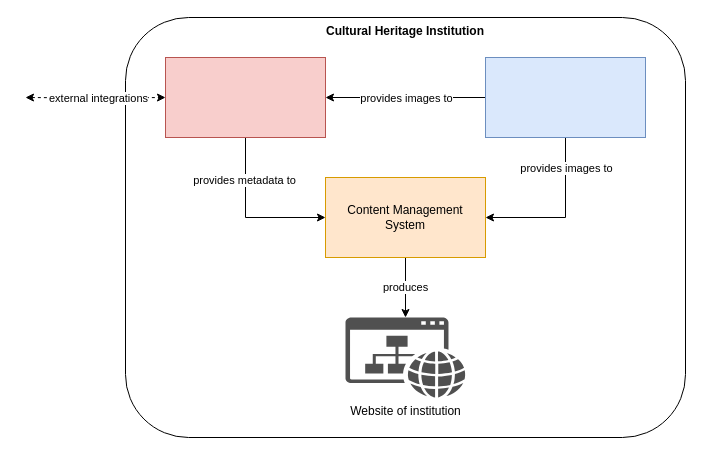
This 703x455 diagram has some shape labels left out. Each missing label, with the centre of its shape:
"Collections Management System" goes at point 245,97.
"Digital Asset Management System" goes at point 565,97.
